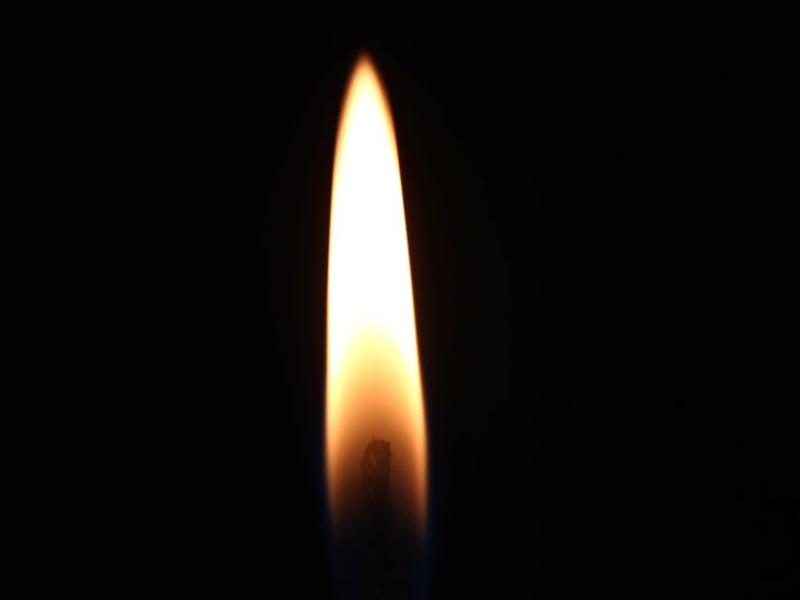fire: (327, 57, 429, 530)
